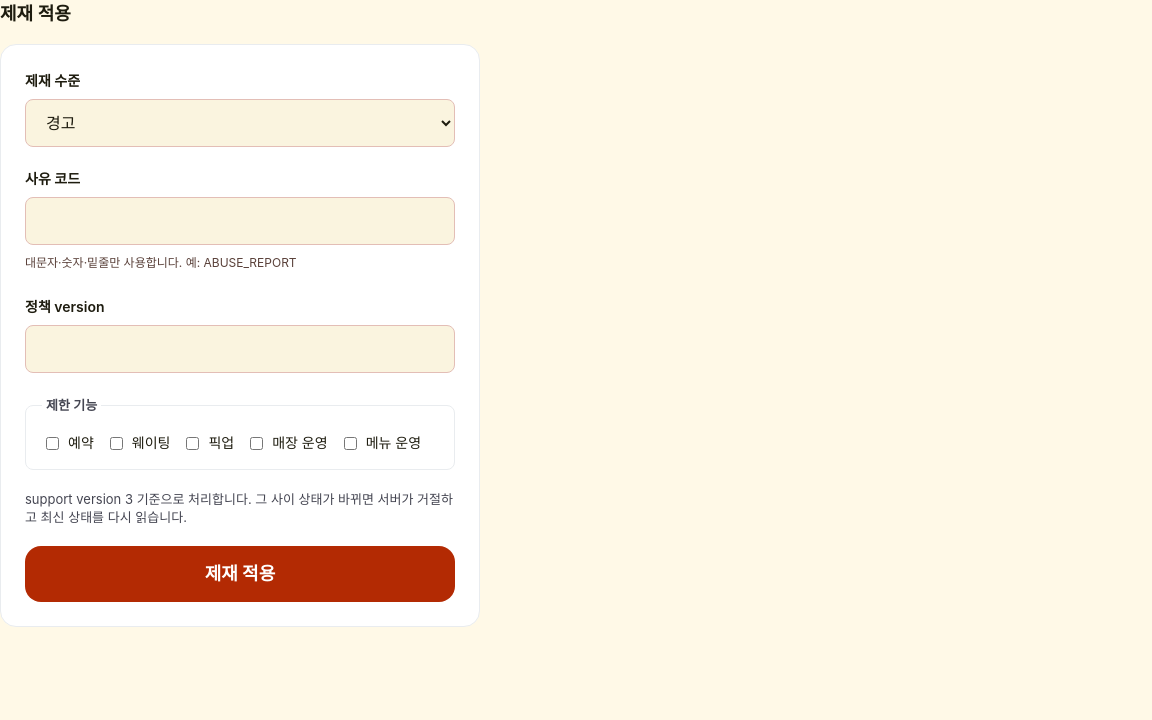
it: 회원 제재 적용 › 재인증 전에는 제재를 보내지 않는다
Type "ABUSE_REPORT" into the field labelled "사유 코드" at (240, 221), box [25,197,455,245]
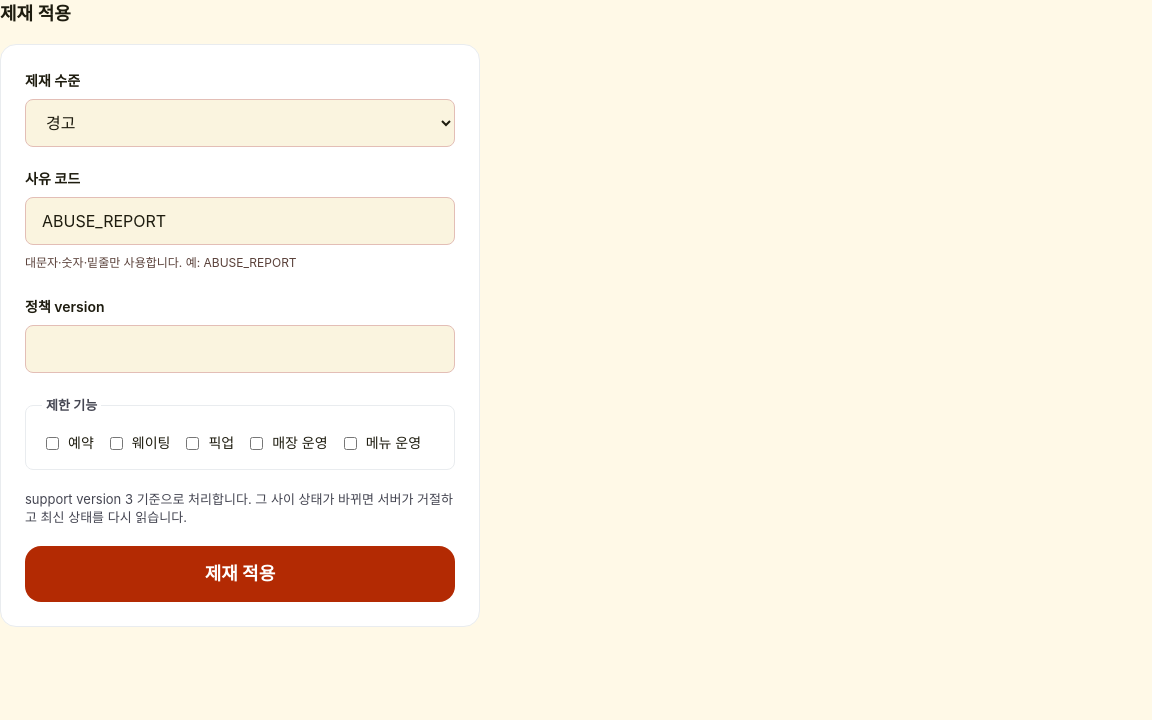
Type "SANCTION_POLICY_V1" into the field labelled "정책 version" at (240, 349), box [25,325,455,373]
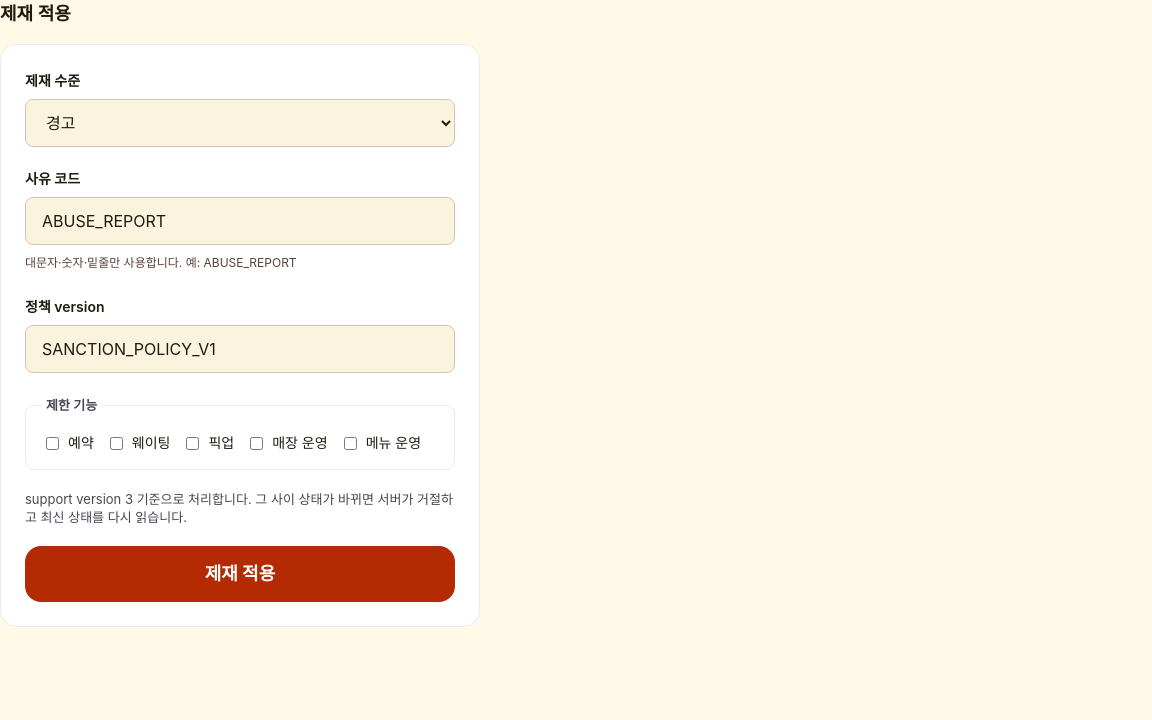
Click the button "제재 적용" at (240, 574), box [25,546,455,602]
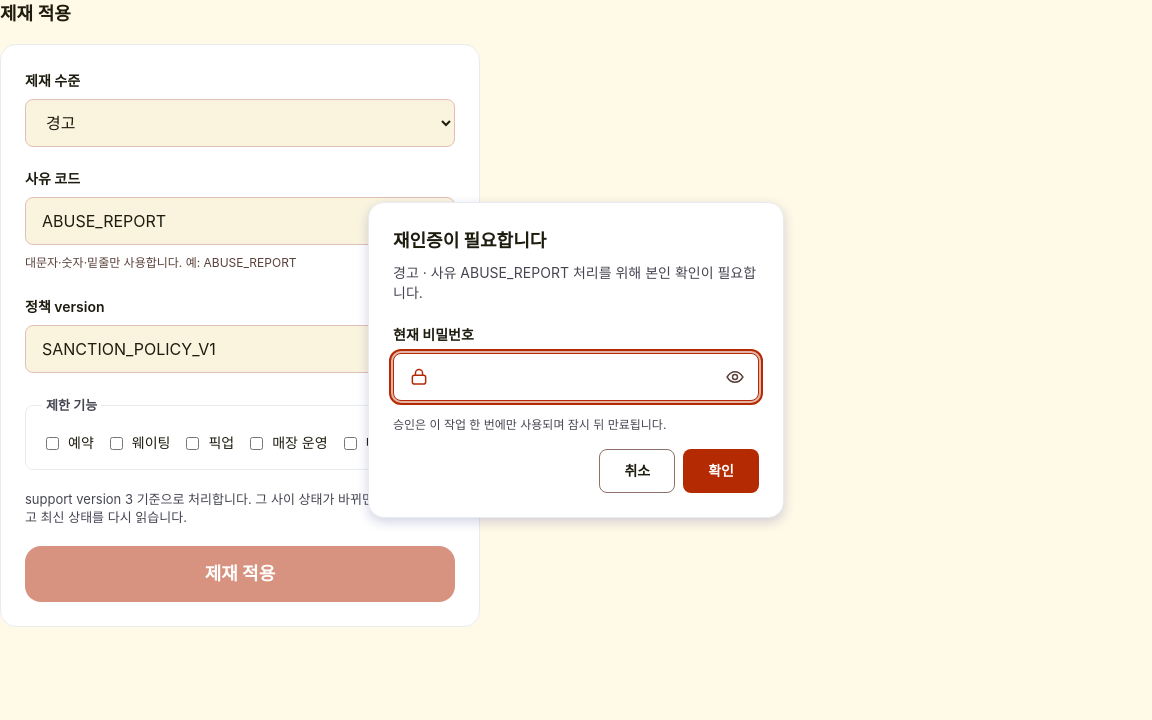
Result: the dialog "재인증이 필요합니다" is shown at [368,202,784,518]
